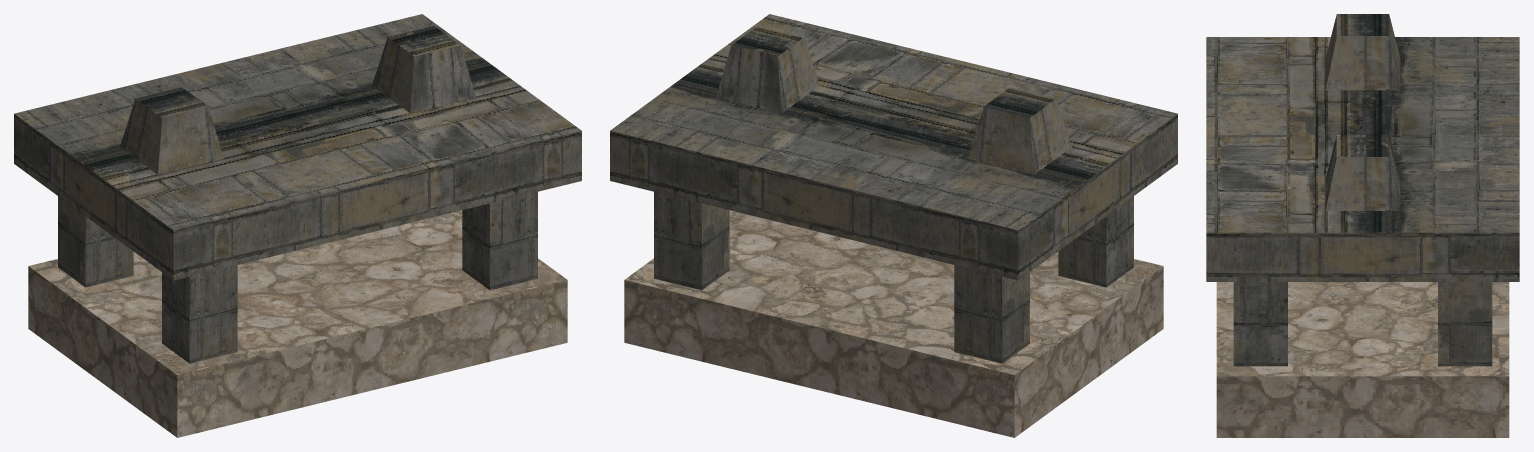
The model's file is temple_statue_altar.glb.
3 renders of one model, left to right at view 1: azimuth 30°, elevation 25°; view 2: azimuth 150°, elevation 25°; view 3: azimuth 270°, elevation 25°, orthographic.
Parts seen in each view (by area): view 1: temple_statue_altar; view 2: temple_statue_altar; view 3: temple_statue_altar.
Part boxes in pixels (left/top/right/bottom): temple_statue_altar: left=14, top=14, right=581, bottom=437; temple_statue_altar: left=610, top=14, right=1177, bottom=437; temple_statue_altar: left=1206, top=14, right=1519, bottom=437.
Bounding box in the file's own units: 1.36 × 0.84 × 0.92.
2 materials, 2 textured.
